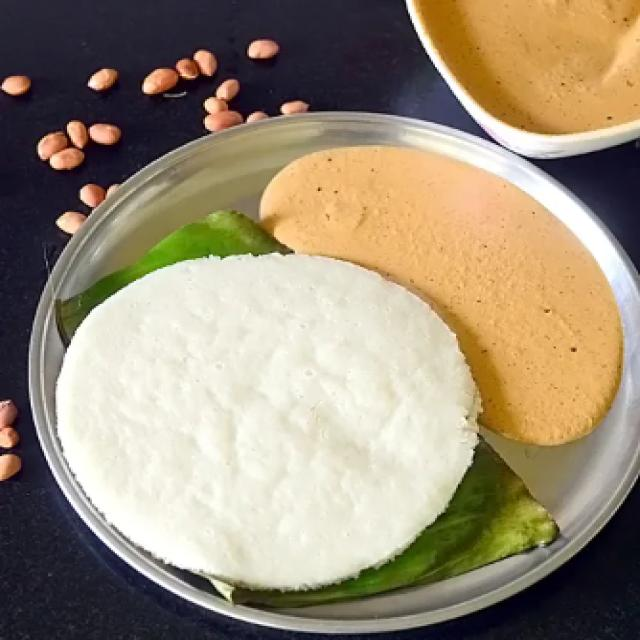peanut chutney: (334, 152, 564, 358)
